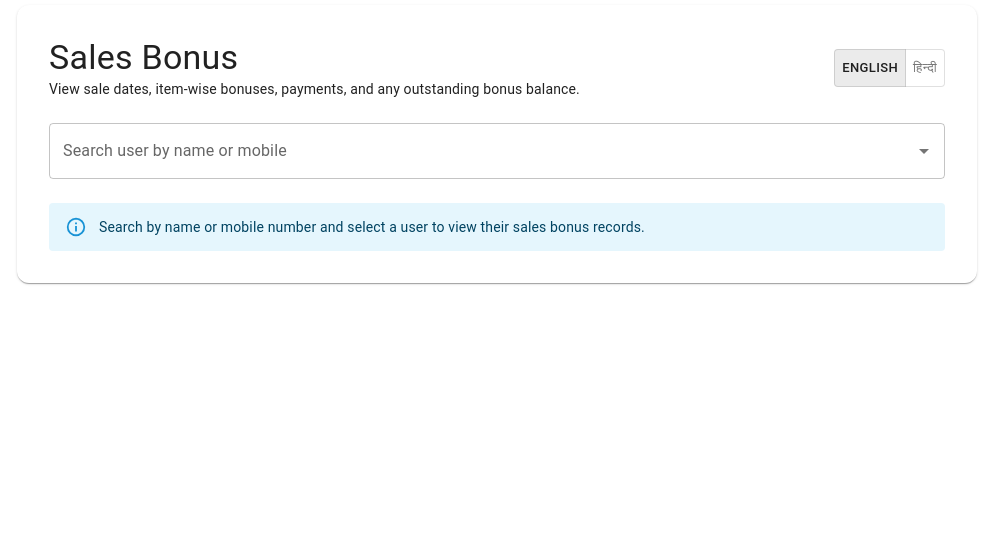
Test case: SaleBonus language selection › shows the top three sellers from the group selected by an admin
Type "Tile Mason" into the dropdown at (482, 151), box [58,132,906,170]
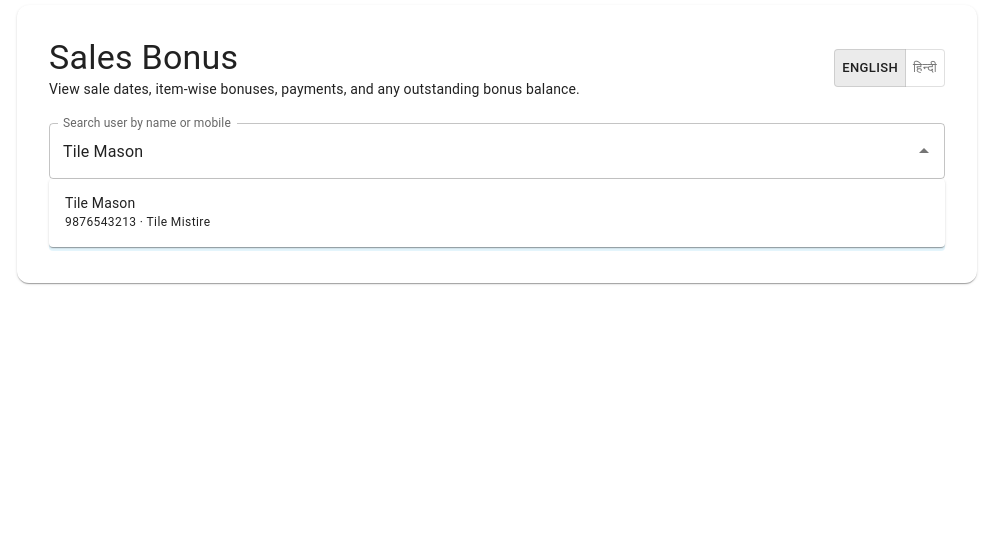
Click the option "Tile Mason 9876543213 · Tile Mistire" at (138, 212), box [65,195,210,229]
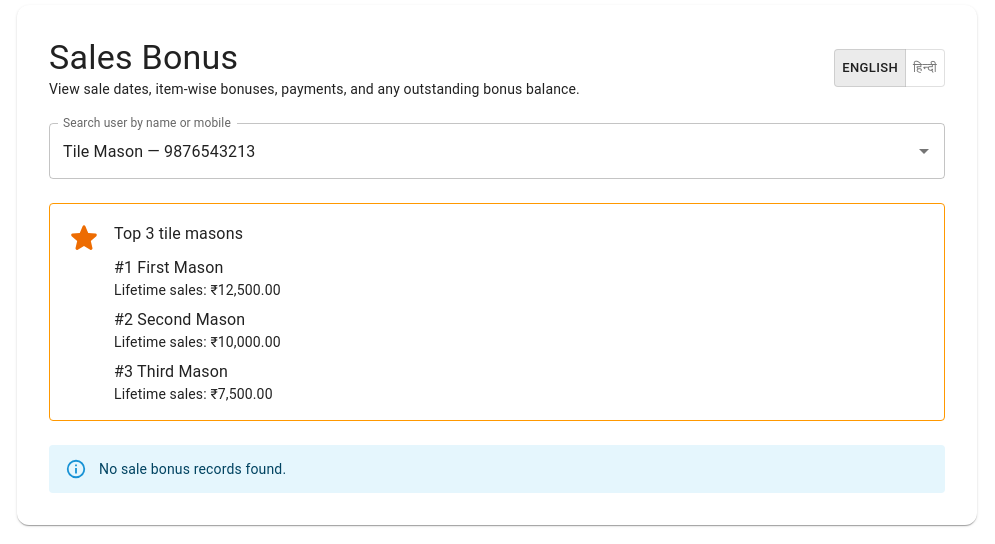
Now the heading "Top 3 tile masons" is shown, box [114,224,243,243]
Now the text "#1 First Mason" is shown, box [114,258,224,277]
Now the text "#2 Second Mason" is shown, box [114,310,245,329]
